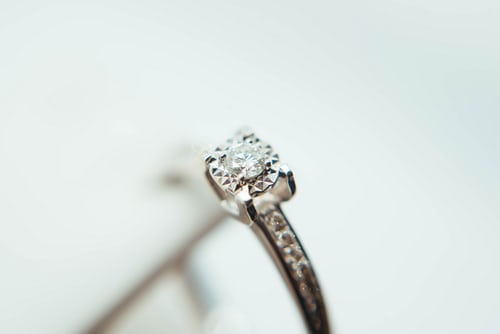ring: (142, 100, 345, 330)
